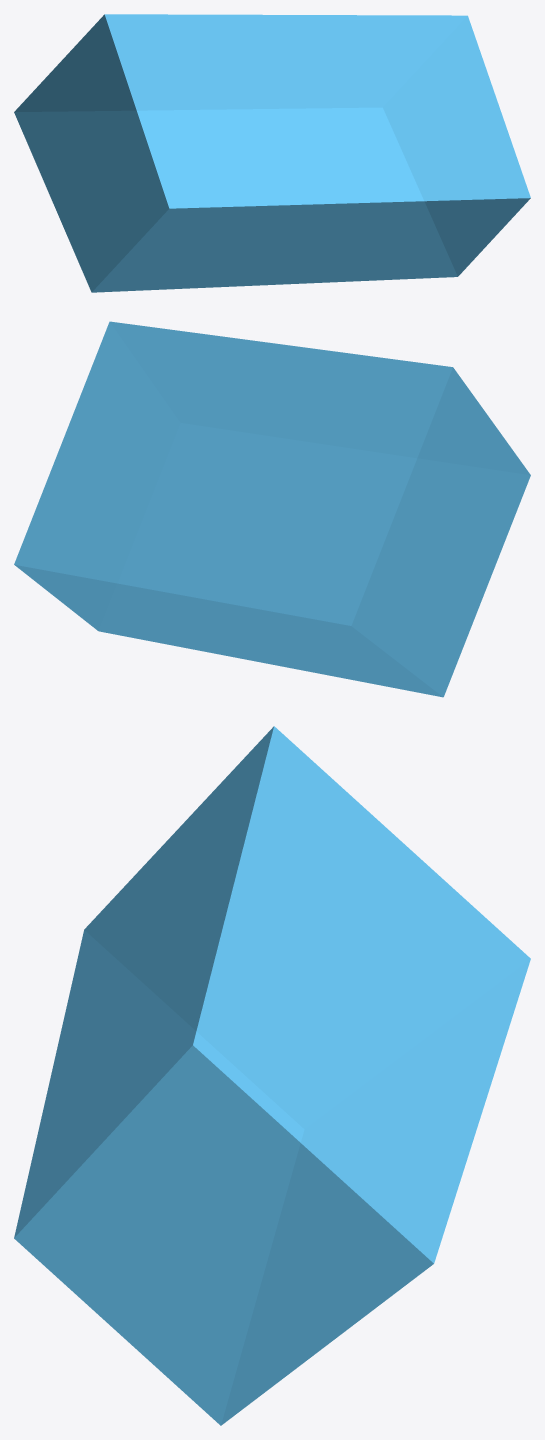
Rendered from Event_421115418_HErechit_85.fbx.
The picture shows the model from 3 angles, top to bottom: view 1: azimuth 30°, elevation 25°; view 2: azimuth 150°, elevation 25°; view 3: azimuth 270°, elevation 25°; orthographic projection. The views are drawn at different scales.
Visible parts, largest first — view 1: Model; view 2: Model; view 3: Model.
Boxes of the visible parts, bbox=[...] form: Model: bbox=[14, 14, 530, 292]; Model: bbox=[14, 321, 530, 697]; Model: bbox=[14, 726, 530, 1425].
Bounding box in the file's own units: 0.7205 × 0.6757 × 0.6757.
